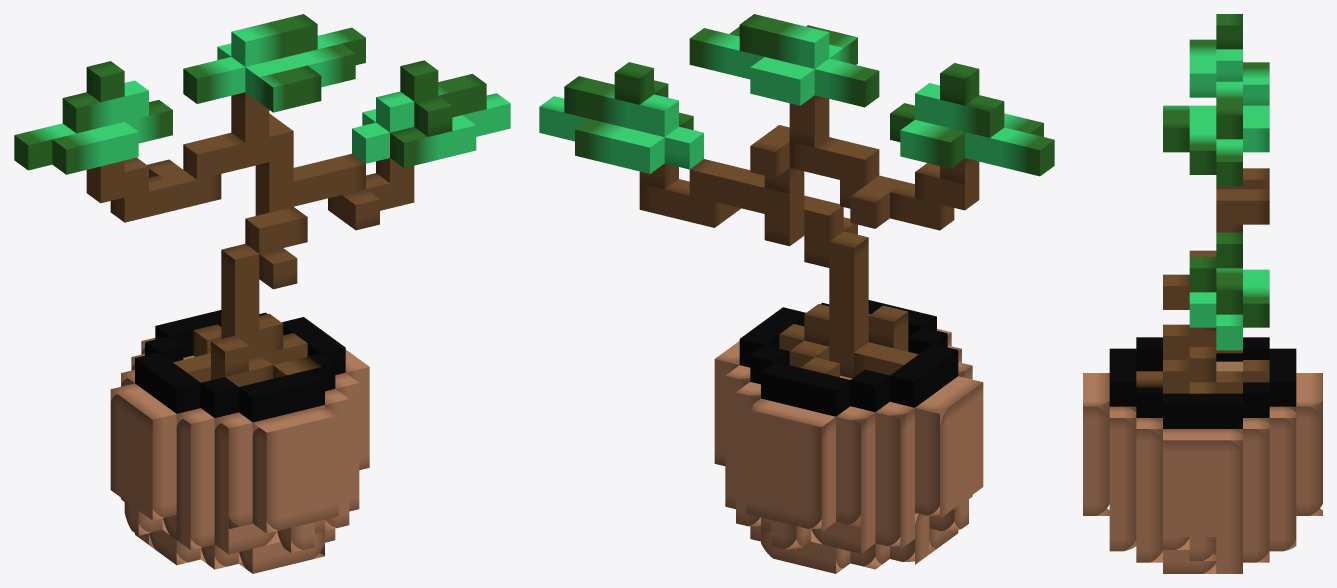
File: PottedPlant2.obj
3 renders of one model, left to right at view 1: azimuth 30°, elevation 25°; view 2: azimuth 150°, elevation 25°; view 3: azimuth 270°, elevation 25°, orthographic. The views are drawn at different scales.
Visible parts, largest first — view 1: Model; view 2: Model; view 3: Model.
Part boxes in pixels (<box>): Model: <box>14,14,510,573</box>; Model: <box>539,14,1054,573</box>; Model: <box>1083,14,1322,573</box>.
Size of the model in its own units: 20 by 19 by 9.
Materials: 1 (1 with a texture image).
